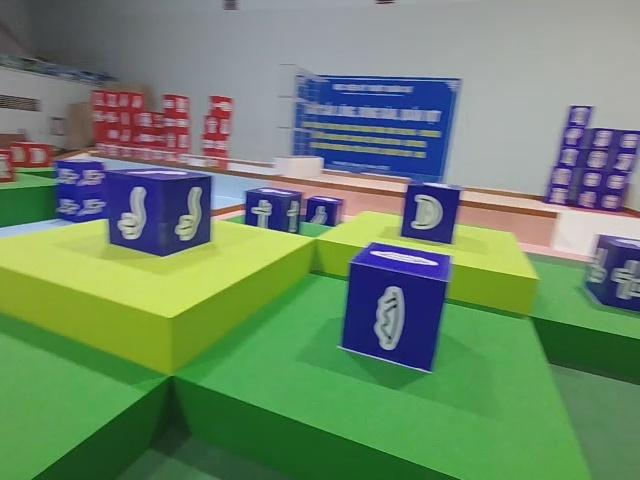R2 Real Blue: (342, 244, 455, 377), (104, 168, 213, 260), (586, 235, 640, 320), (400, 182, 462, 247), (245, 187, 304, 236), (304, 196, 348, 229)
